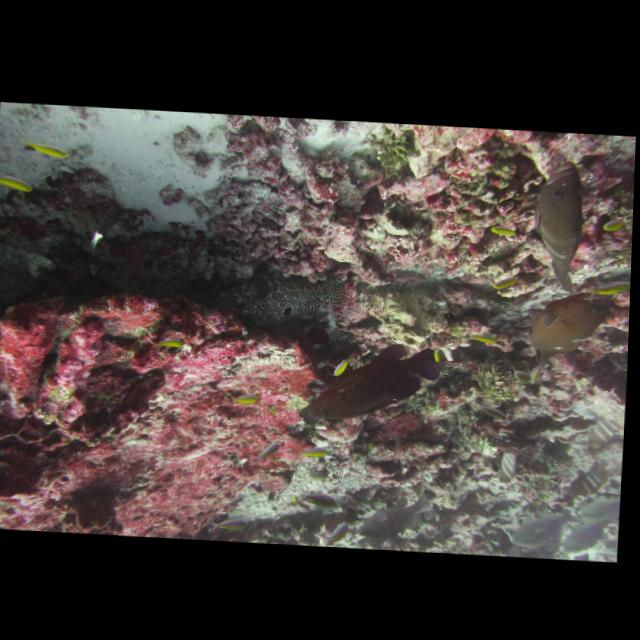Groupers: (208, 269, 344, 332)
